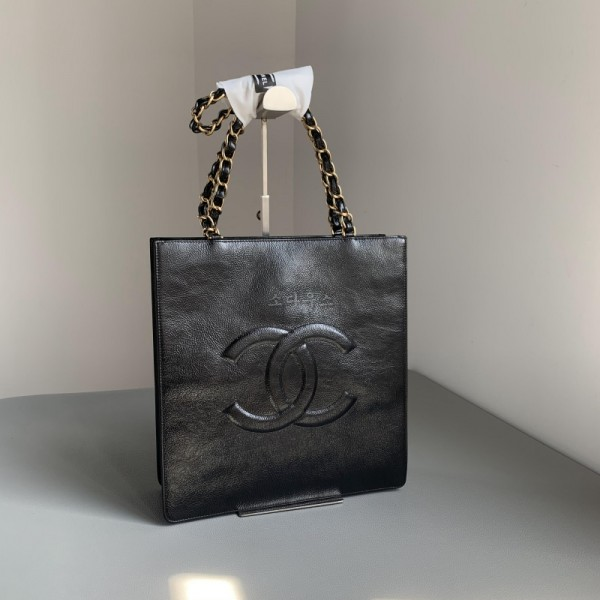channel: (125, 101, 432, 551), (203, 309, 382, 449)
